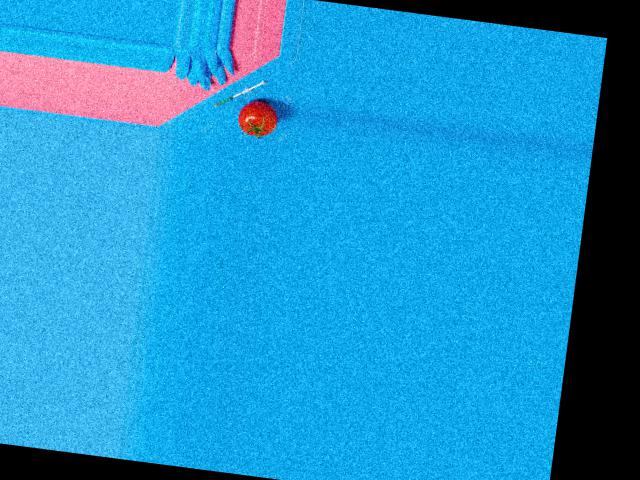tomato: (236, 98, 278, 137)
